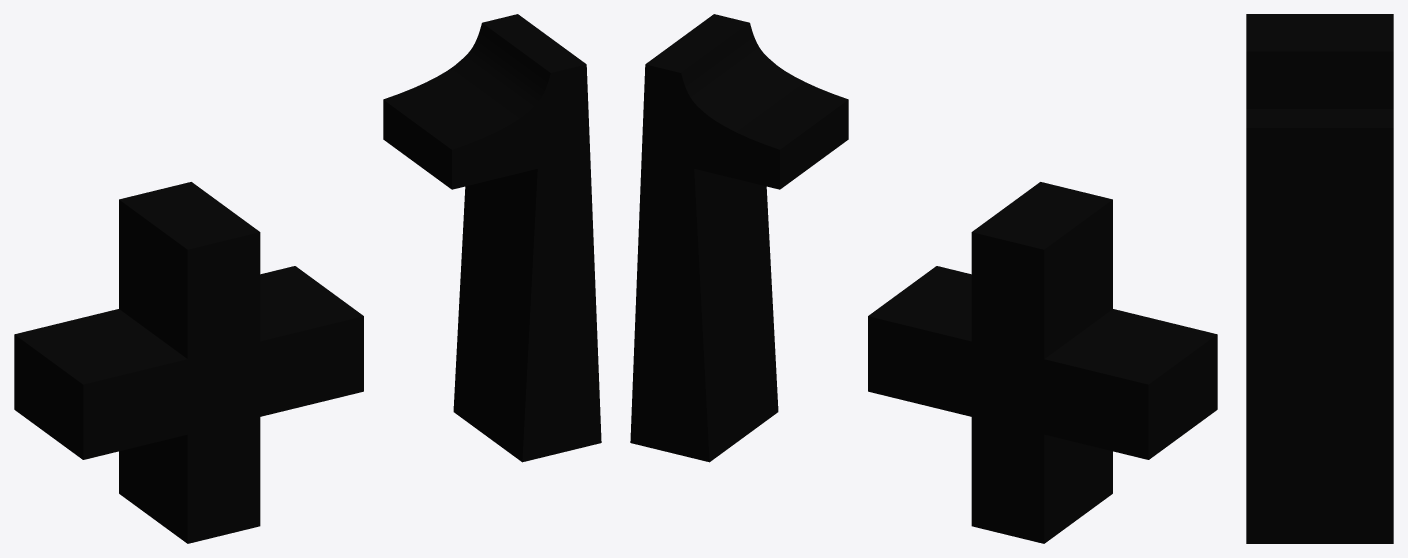
Rendered from PlusOne.fbx.
3 views of the same model, side by side, from view 1: azimuth 30°, elevation 25°; view 2: azimuth 150°, elevation 25°; view 3: azimuth 270°, elevation 25° (orthographic). The views are drawn at different scales.
Visible parts, largest first — view 1: node_id33; view 2: node_id33; view 3: node_id33.
Part boxes in pixels (x1,y1,x2,y2): node_id33: (14,14,601,543); node_id33: (630,14,1217,543); node_id33: (1246,14,1393,543).
Bounding box in the file's own units: 0.0652 × 0.046 × 0.015.
1 material, 1 textured.
